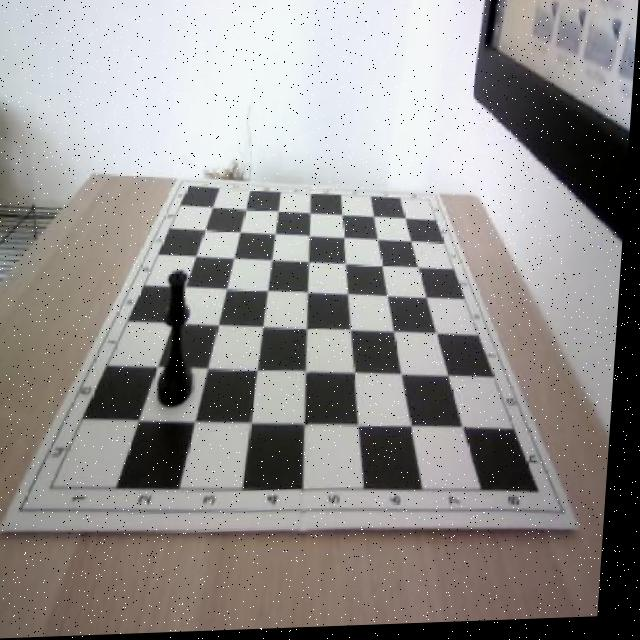black-pawn: (160, 269, 206, 408)
